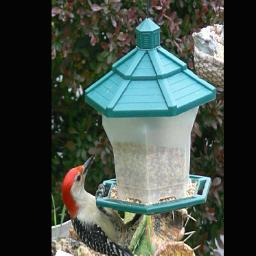Woodpecker: (61, 154, 151, 256)
